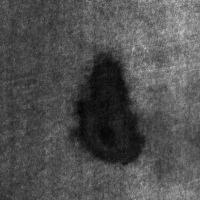patches: (67, 51, 143, 165), (140, 71, 200, 189)
